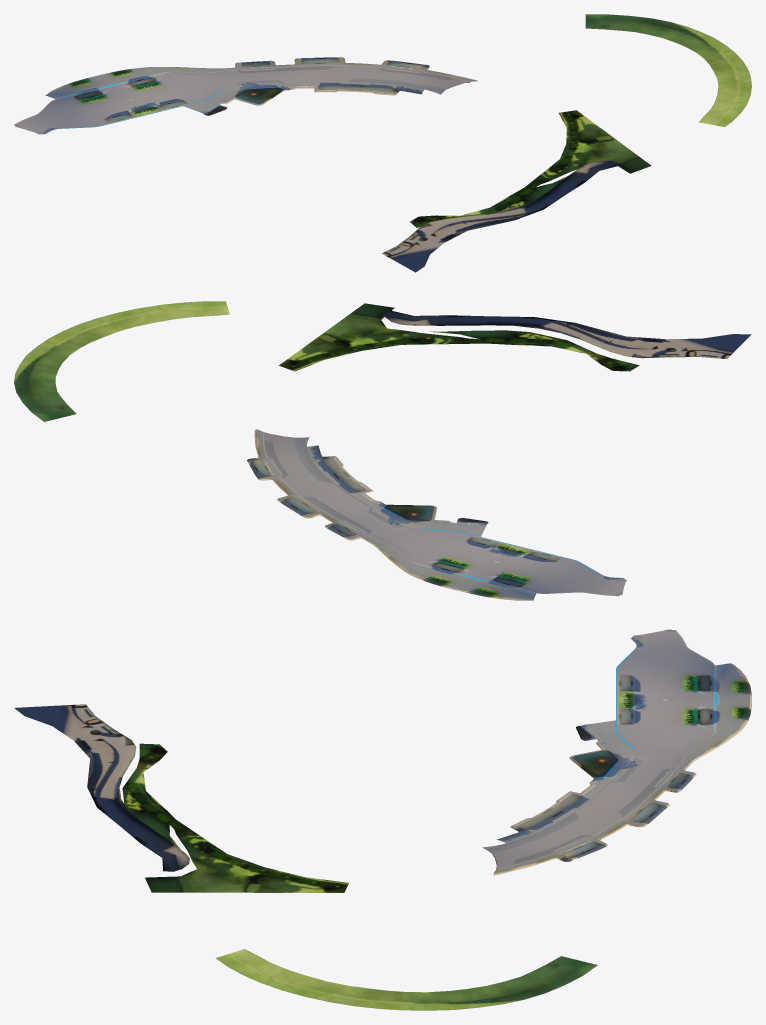
Rendered from pref_sm_beach_tech_hunt_bk_beta_Terrains_Part_06_lv2.fbx.
The picture shows the model from 3 angles, top to bottom: view 1: azimuth 30°, elevation 25°; view 2: azimuth 150°, elevation 25°; view 3: azimuth 270°, elevation 25°; orthographic projection. The views are drawn at different scales.
Parts seen in each view (by area): view 1: sm_beach_tech_hunt_bk_beta_Terrains_Part_06a_lv2, sm_beach_tech_hunt_bk_beta_Terrains_Part_06b_lv2, sm_beach_tech_hunt_bk_beta_Terrains_Part_06c_lv2, sm_beach_tech_hunt_bk_beta_Terrains_Part_06d_lv2; view 2: sm_beach_tech_hunt_bk_beta_Terrains_Part_06a_lv2, sm_beach_tech_hunt_bk_beta_Terrains_Part_06c_lv2, sm_beach_tech_hunt_bk_beta_Terrains_Part_06b_lv2, sm_beach_tech_hunt_bk_beta_Terrains_Part_06d_lv2; view 3: sm_beach_tech_hunt_bk_beta_Terrains_Part_06a_lv2, sm_beach_tech_hunt_bk_beta_Terrains_Part_06b_lv2, sm_beach_tech_hunt_bk_beta_Terrains_Part_06c_lv2, sm_beach_tech_hunt_bk_beta_Terrains_Part_06d_lv2.
Part boxes in pixels (<box>): sm_beach_tech_hunt_bk_beta_Terrains_Part_06a_lv2: <box>14,57,477,134</box>; sm_beach_tech_hunt_bk_beta_Terrains_Part_06b_lv2: <box>585,14,751,126</box>; sm_beach_tech_hunt_bk_beta_Terrains_Part_06c_lv2: <box>410,110,651,227</box>; sm_beach_tech_hunt_bk_beta_Terrains_Part_06d_lv2: <box>382,161,619,272</box>; sm_beach_tech_hunt_bk_beta_Terrains_Part_06a_lv2: <box>247,429,626,600</box>; sm_beach_tech_hunt_bk_beta_Terrains_Part_06c_lv2: <box>279,303,639,371</box>; sm_beach_tech_hunt_bk_beta_Terrains_Part_06b_lv2: <box>14,301,229,421</box>; sm_beach_tech_hunt_bk_beta_Terrains_Part_06d_lv2: <box>384,310,751,358</box>; sm_beach_tech_hunt_bk_beta_Terrains_Part_06a_lv2: <box>482,629,751,875</box>; sm_beach_tech_hunt_bk_beta_Terrains_Part_06b_lv2: <box>216,949,597,1010</box>; sm_beach_tech_hunt_bk_beta_Terrains_Part_06c_lv2: <box>122,743,348,892</box>; sm_beach_tech_hunt_bk_beta_Terrains_Part_06d_lv2: <box>14,704,189,871</box>.
Size of the model in its own units: 131 by 1.77 by 107.
